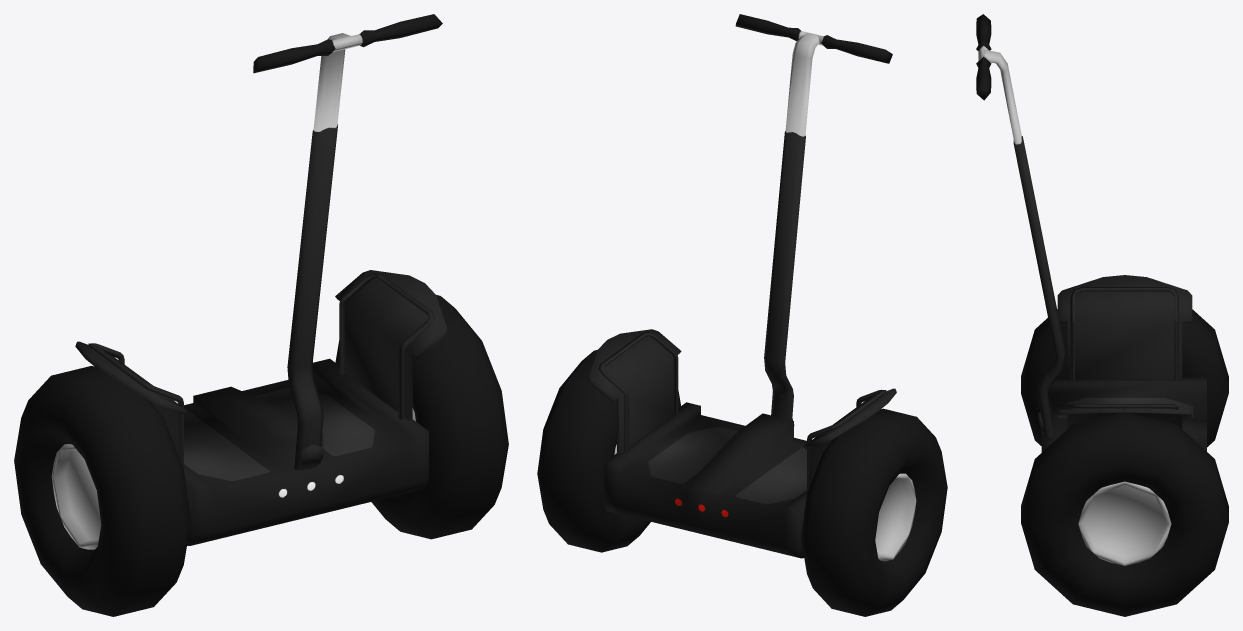
File: segway103.glb
3 views of the same model, side by side, from view 1: azimuth 30°, elevation 25°; view 2: azimuth 150°, elevation 25°; view 3: azimuth 270°, elevation 25° (orthographic). The views are drawn at different scales.
Visible parts, largest first — view 1: segway_body, wheel_right, wheel_left; view 2: segway_body, wheel_right, wheel_left; view 3: wheel_left, segway_body, wheel_right.
Part boxes in pixels (x1,y1,x2,y2): segway_body: (75,14,447,545); wheel_right: (14,366,190,616); wheel_left: (335,295,508,539); segway_body: (588,14,896,558); wheel_right: (801,408,947,616); wheel_left: (537,350,680,552); wheel_left: (1021,412,1228,616); segway_body: (976,14,1206,452); wheel_right: (1021,309,1228,447).
Bounding box in the file's own units: 0.8792 × 1.25 × 0.5785.
1 material, 1 textured.
